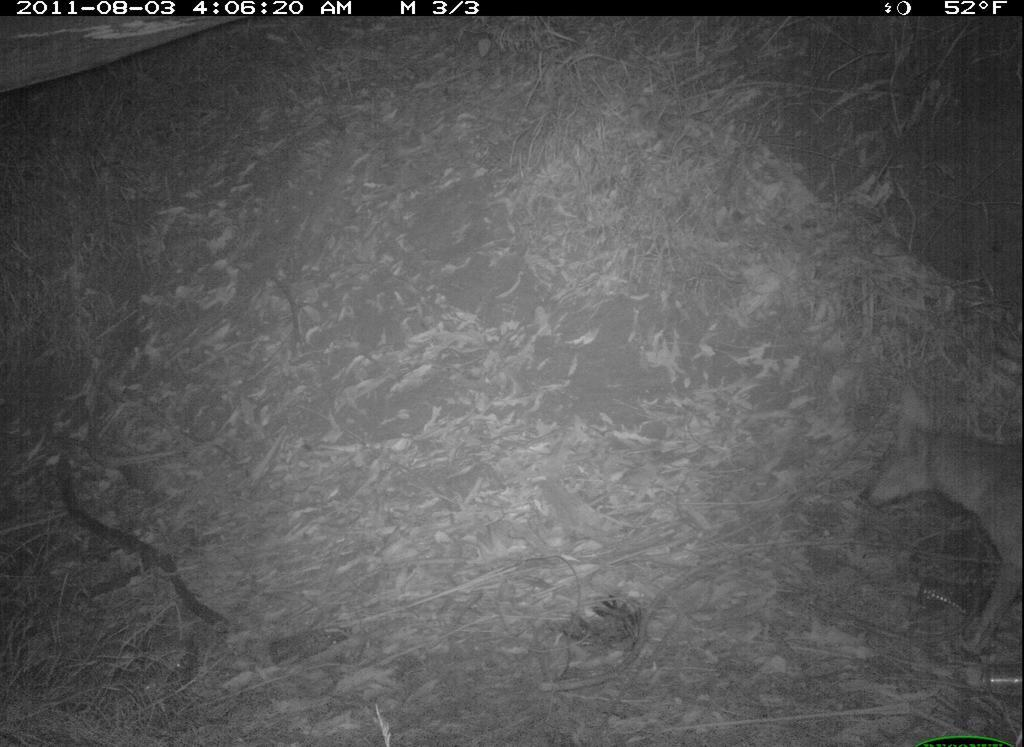coyote: (854, 367, 1019, 637)
